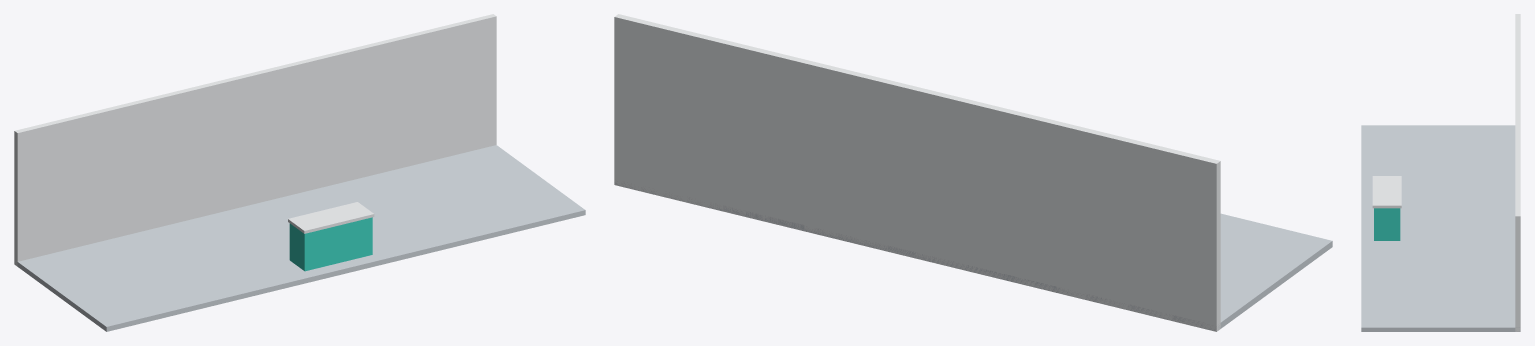
3 views of the same model, side by side, from view 1: azimuth 30°, elevation 25°; view 2: azimuth 150°, elevation 25°; view 3: azimuth 270°, elevation 25° (orthographic). The views are drawn at different scales.
Visible parts, largest first — view 1: Exhibition Booth Concept; view 2: Exhibition Booth Concept; view 3: Exhibition Booth Concept.
Boxes of the visible parts, <box> form: Exhibition Booth Concept: <box>14,14,585,331</box>; Exhibition Booth Concept: <box>614,14,1332,331</box>; Exhibition Booth Concept: <box>1361,14,1520,331</box>.
Bounding box in the file's own units: 12 × 3.2 × 4.
